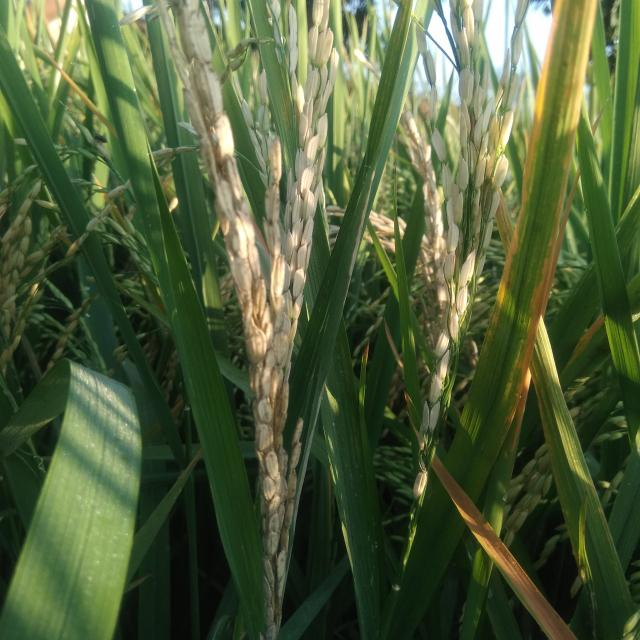Brown spot: (437, 466, 561, 636), (528, 5, 597, 289), (488, 291, 544, 416), (44, 51, 102, 117), (560, 314, 602, 368)
